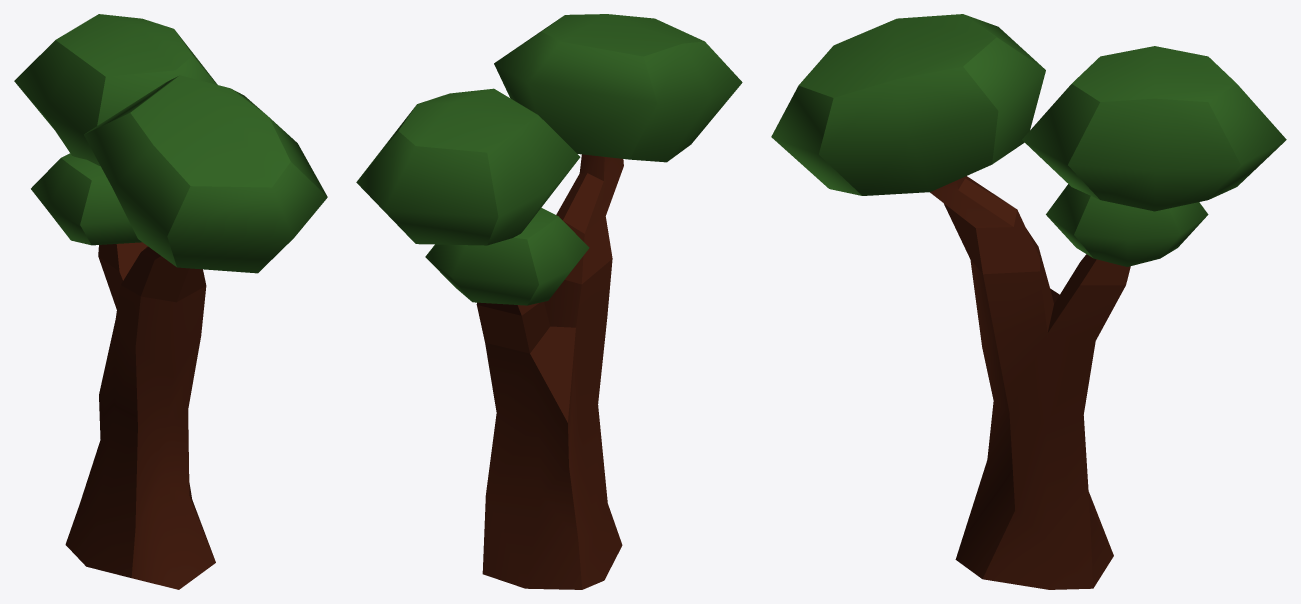
The model's file is Tree.fbx.
3 renders of one model, left to right at view 1: azimuth 30°, elevation 25°; view 2: azimuth 150°, elevation 25°; view 3: azimuth 270°, elevation 25°, orthographic. The views are drawn at different scales.
Parts seen in each view (by area): view 1: pCube16; view 2: pCube16; view 3: pCube16.
Part boxes in pixels (<box>): pCube16: <box>14,14,327,589</box>; pCube16: <box>356,14,742,589</box>; pCube16: <box>771,14,1286,589</box>.
Size of the model in its own units: 2.36 by 5.46 by 4.77.
